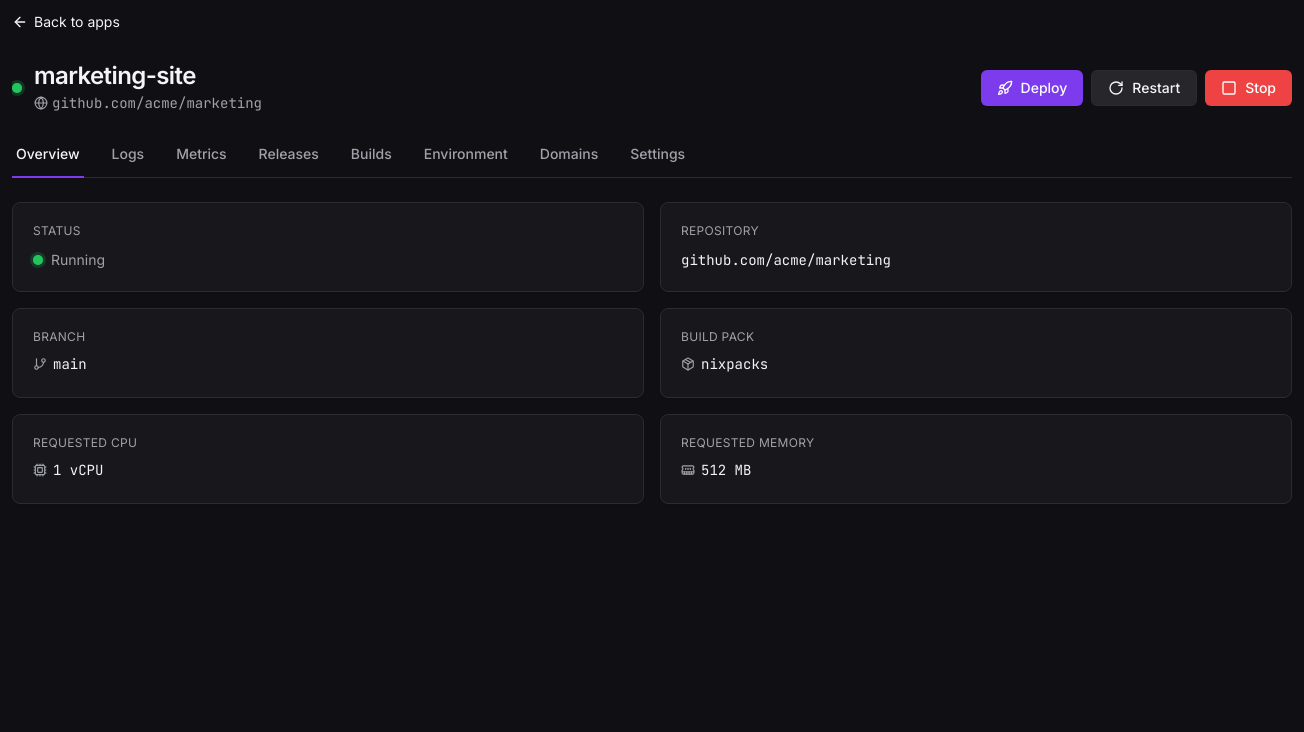
Test: AppDetailPage — environment variables › renders a Notice (not a silent empty) when the env fetch fails
The width and height of the screenshot is (1304, 732).
Check: the heading "marketing-site" is shown, box [34, 61, 196, 90]
Click the tab "Environment" at (466, 159), box [420, 140, 512, 178]
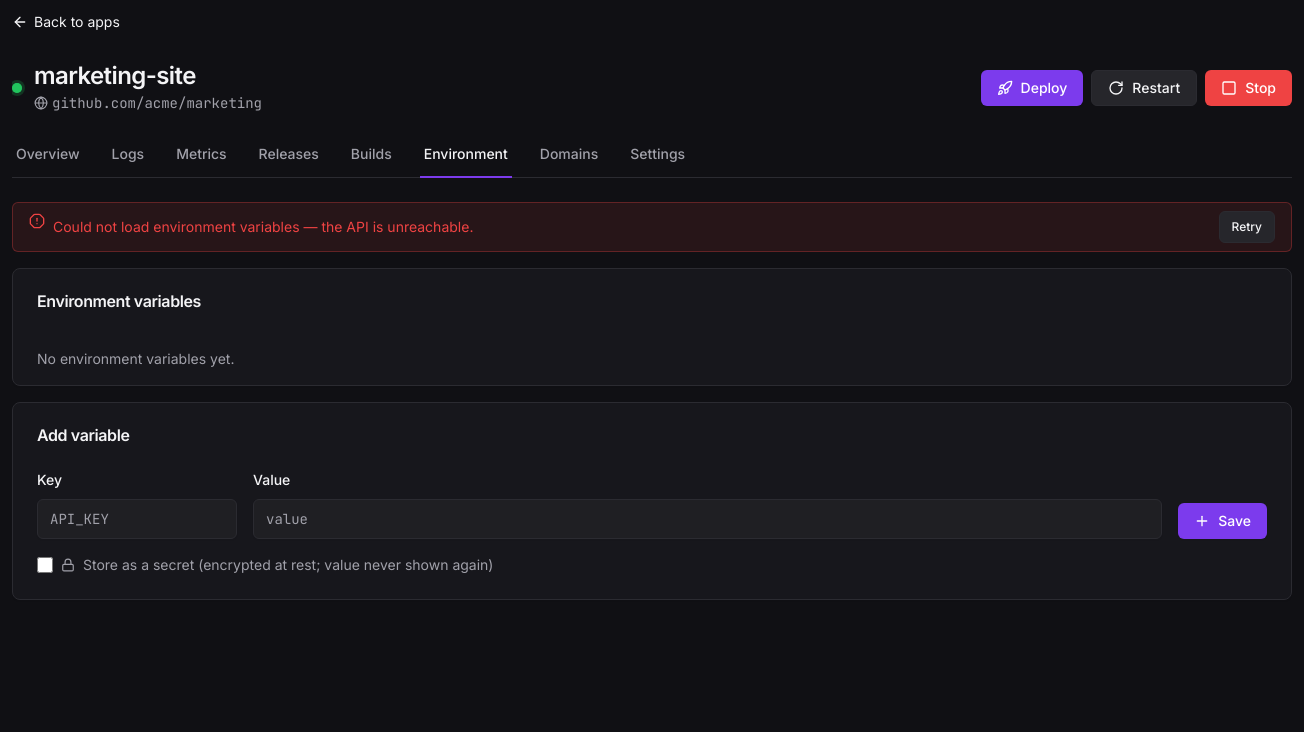
Check: the text "Could not load environment variables" is shown, box [53, 218, 473, 235]
Check: the button "Retry" is shown, box [1218, 211, 1275, 243]
